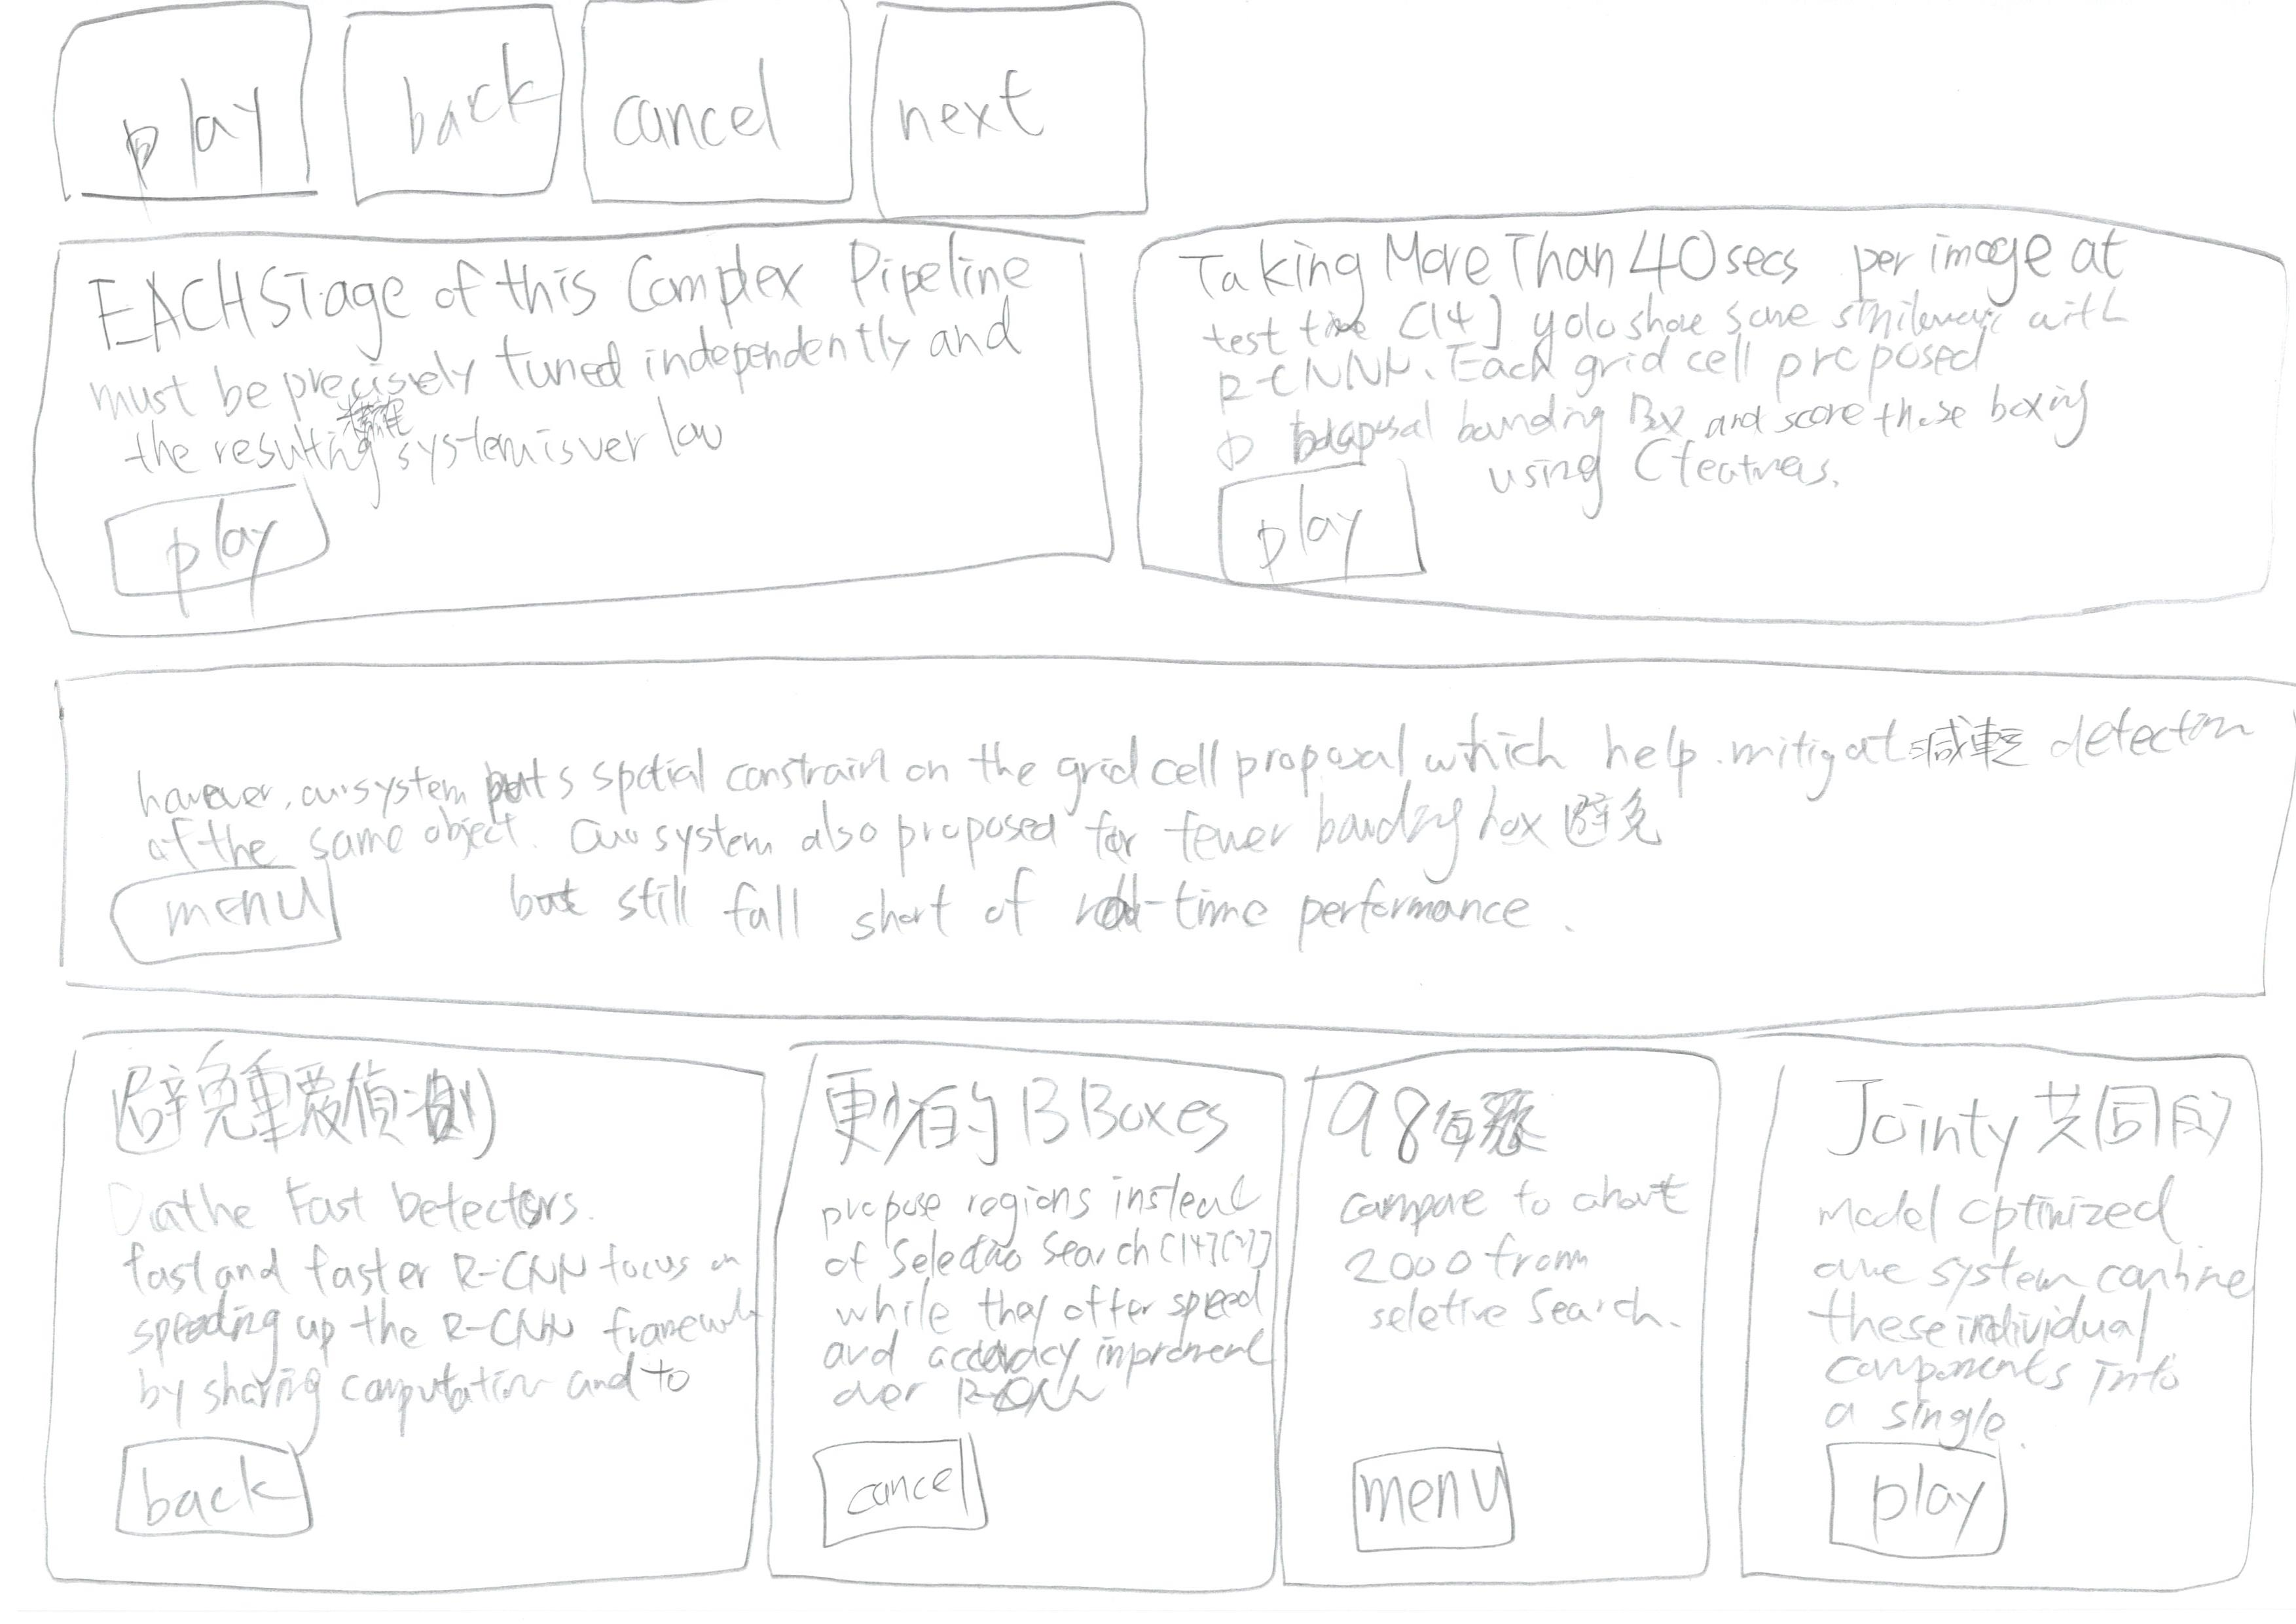back: (318, 0, 587, 241), (100, 1418, 359, 1573)
cancel: (570, 0, 898, 228), (777, 1418, 1014, 1562)
double: (1104, 200, 2296, 705), (18, 218, 1132, 670)
menu: (67, 859, 374, 982), (1320, 1415, 1545, 1562)
next: (861, 0, 1171, 236)
play: (47, 0, 339, 228), (1791, 1422, 2050, 1591), (76, 466, 348, 620), (1197, 443, 1454, 603)
quadruple: (735, 1005, 1301, 1622), (1732, 1009, 2296, 1620), (1296, 1009, 1744, 1624)
row: (11, 1026, 2296, 1624), (11, 192, 2296, 691), (11, 666, 2296, 1051), (11, 0, 2296, 232)
single: (12, 633, 2296, 1070)
small-title: (79, 257, 1011, 350), (74, 1037, 594, 1176), (1185, 232, 2099, 301), (805, 1055, 1250, 1178), (1809, 1046, 2233, 1174), (1310, 1081, 1577, 1186)
text: (144, 692, 2242, 866), (1204, 288, 2108, 494), (105, 1165, 737, 1438), (90, 336, 1014, 459), (1802, 1169, 2220, 1434), (807, 1185, 1255, 1422), (1331, 1174, 1688, 1364)
